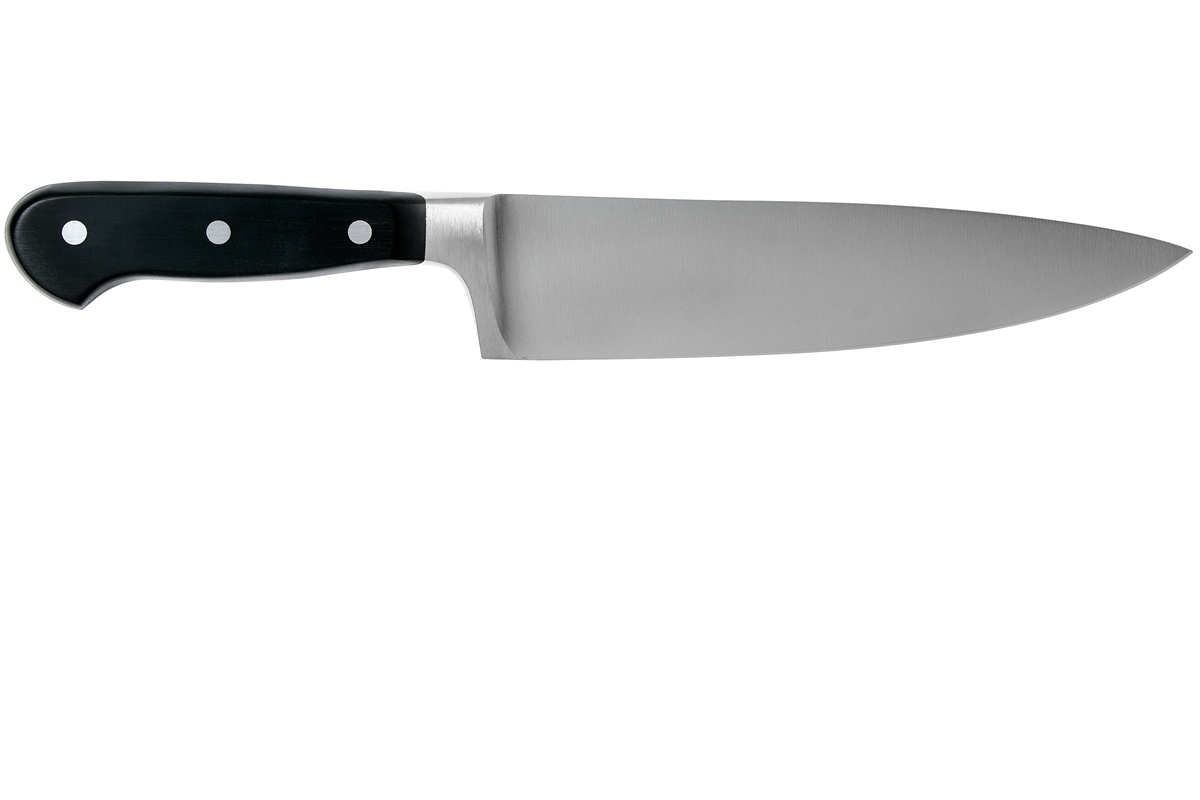knife: (7, 179, 1200, 359)
